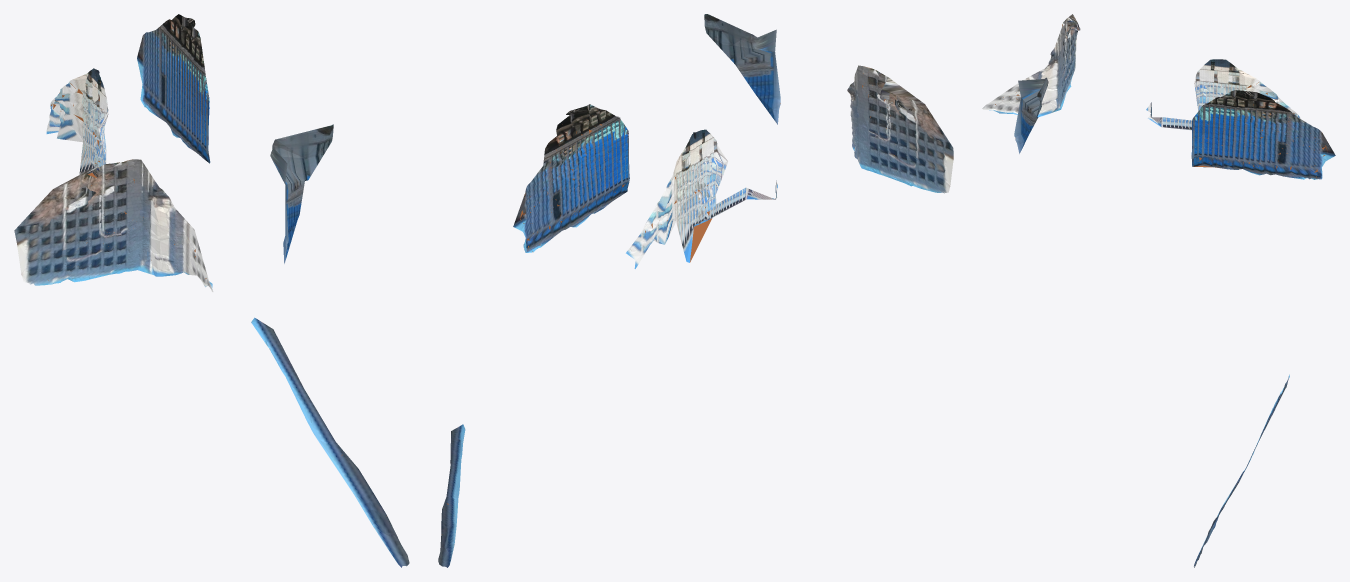
The picture shows the model from 3 angles, left to right: view 1: azimuth 30°, elevation 25°; view 2: azimuth 150°, elevation 25°; view 3: azimuth 270°, elevation 25°; orthographic projection. The views are drawn at different scales.
Parts seen in each view (by area): view 1: node; view 2: node; view 3: node.
Part boxes in pixels (x1,y1,x2,y2): node: (14,14,409,567); node: (438,14,953,567); node: (982,14,1335,567).
Size of the model in its own units: 111 by 126 by 98.23.
1 material, 1 textured.
